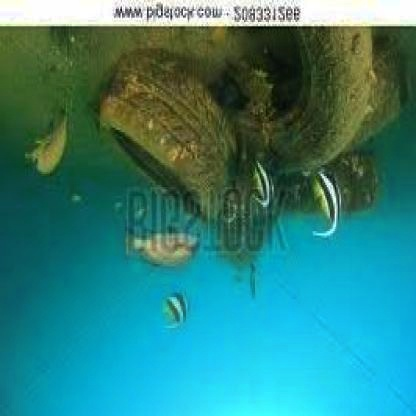tire: (99, 53, 235, 224), (227, 2, 344, 167)
